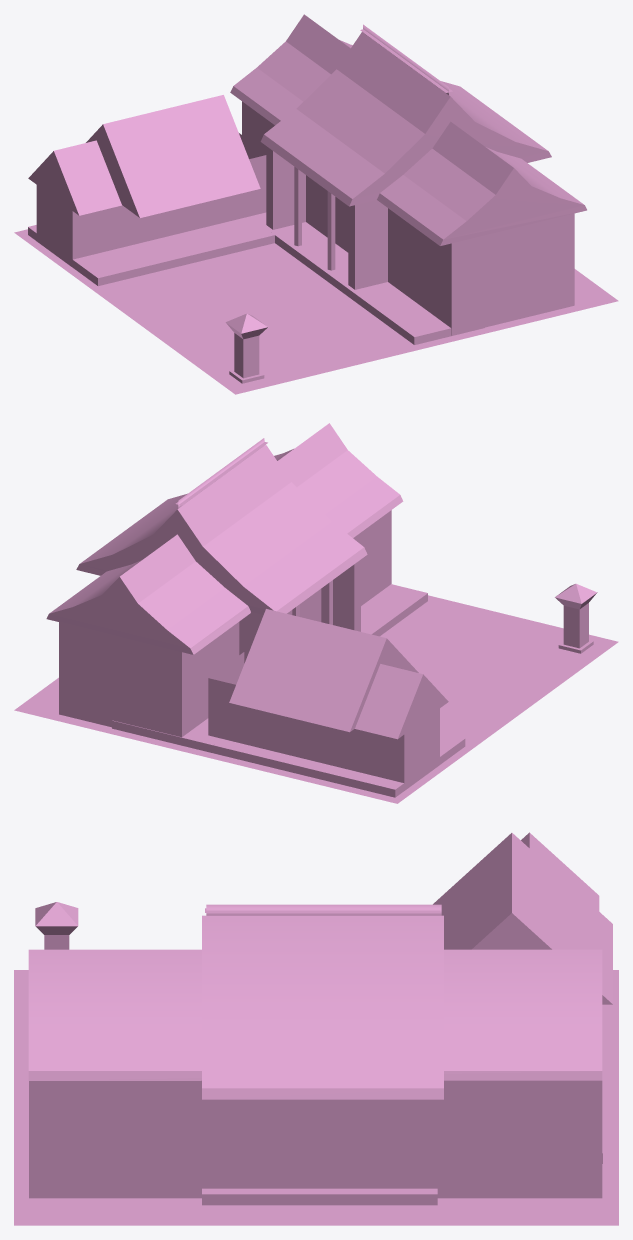
The model's file is chin_cca.dae.
3 views of the same model, one above another, from view 1: azimuth 30°, elevation 25°; view 2: azimuth 150°, elevation 25°; view 3: azimuth 270°, elevation 25° (orthographic). The views are drawn at different scales.
Visible parts, largest first — view 1: Object02; view 2: Object02; view 3: Object02.
Part boxes in pixels (box(x1,y1,x2,y2)): Object02: box(14, 14, 618, 394); Object02: box(14, 423, 618, 803); Object02: box(14, 832, 618, 1225).
Size of the model in its own units: 50.25 by 50 by 23.26.
